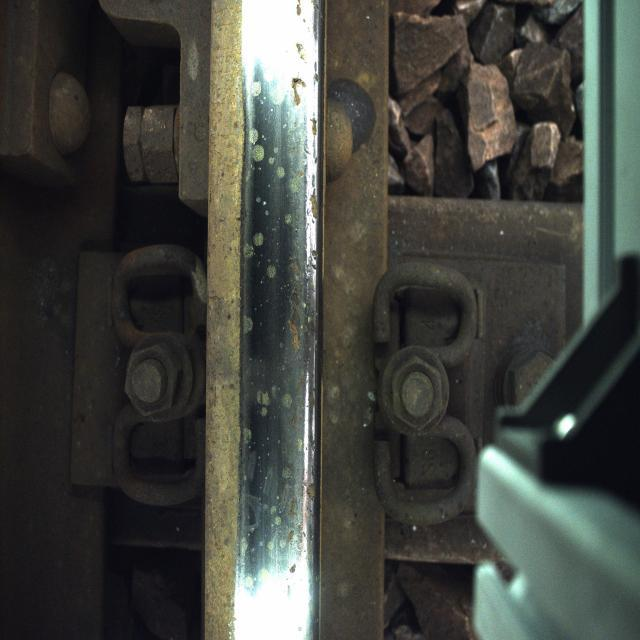scar: (242, 34, 314, 555)
